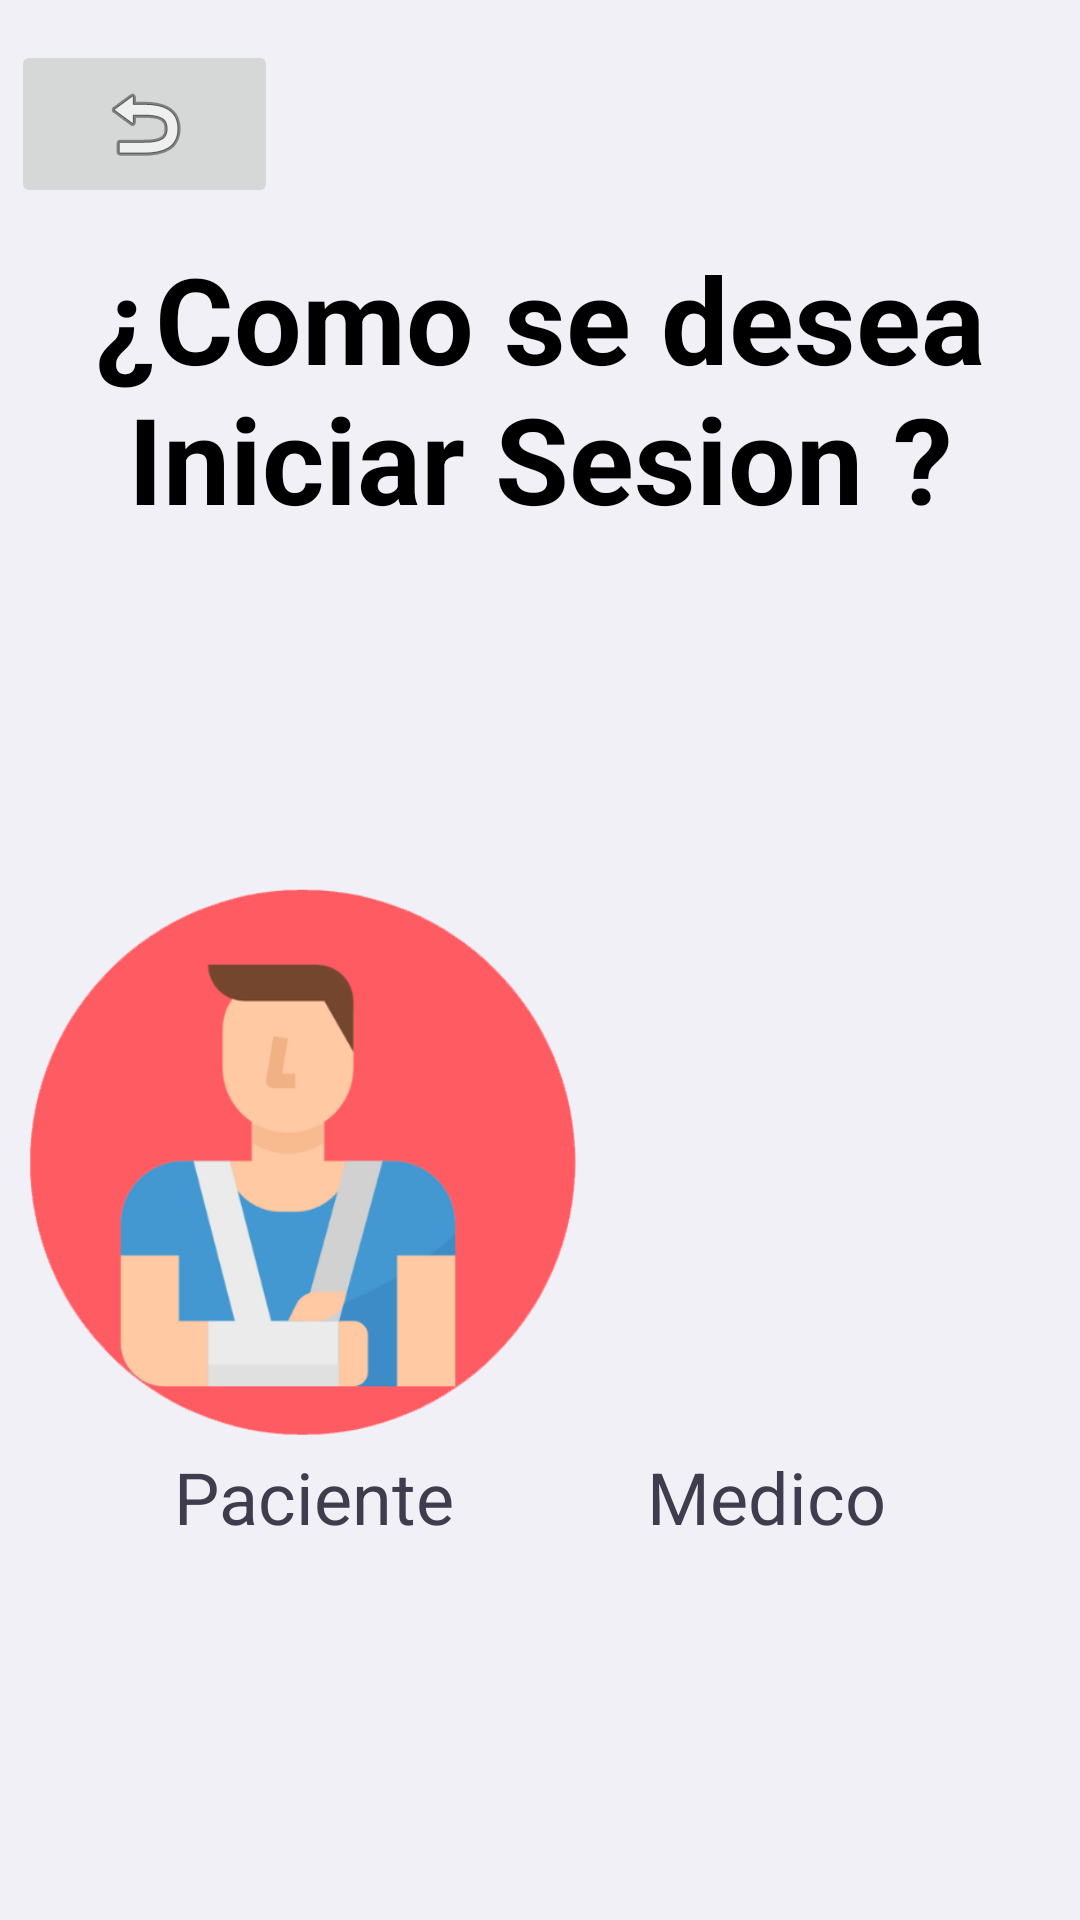

Locate icon controls on the screen. Image size 1080 × 1920, boxes as (x1, y1, x2, y2).
revert: (23, 58, 266, 190)
